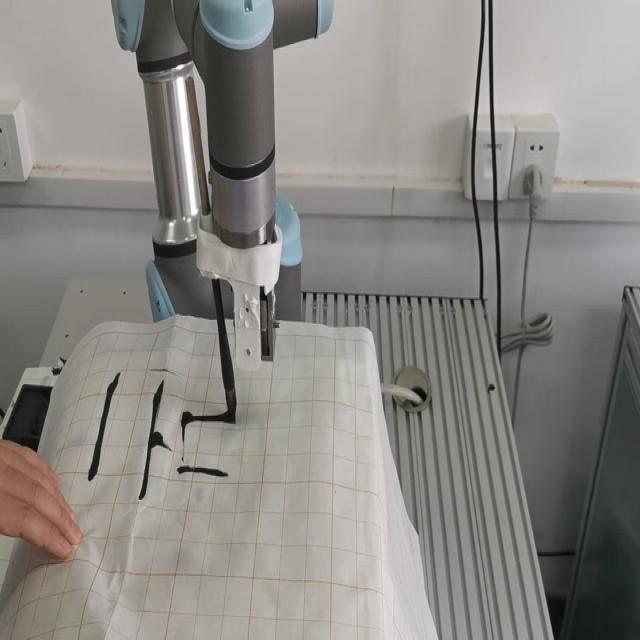head: (219, 382, 241, 422)
writing-brush: (183, 73, 242, 421)
